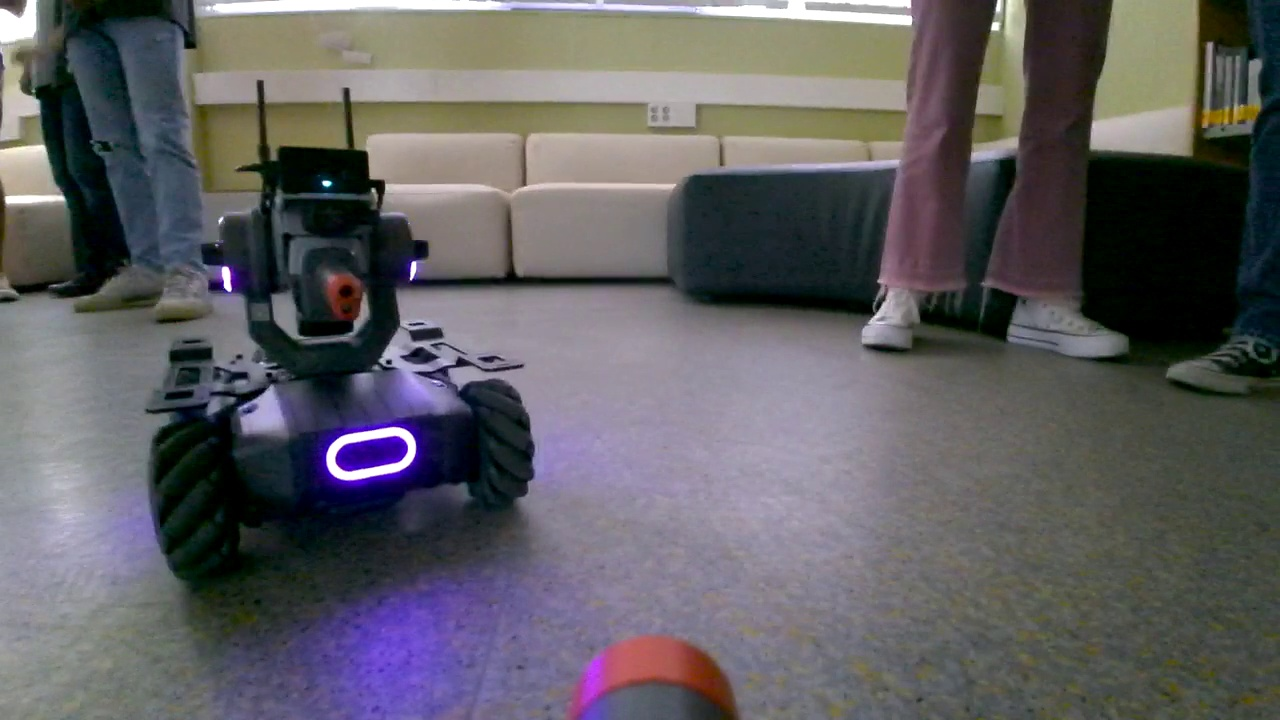robot: (138, 147, 541, 584)
